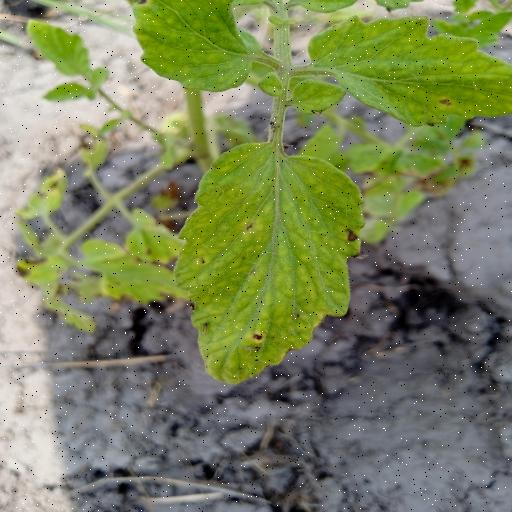Tomato_Brown_Spots: (170, 138, 371, 386), (304, 7, 512, 128)
